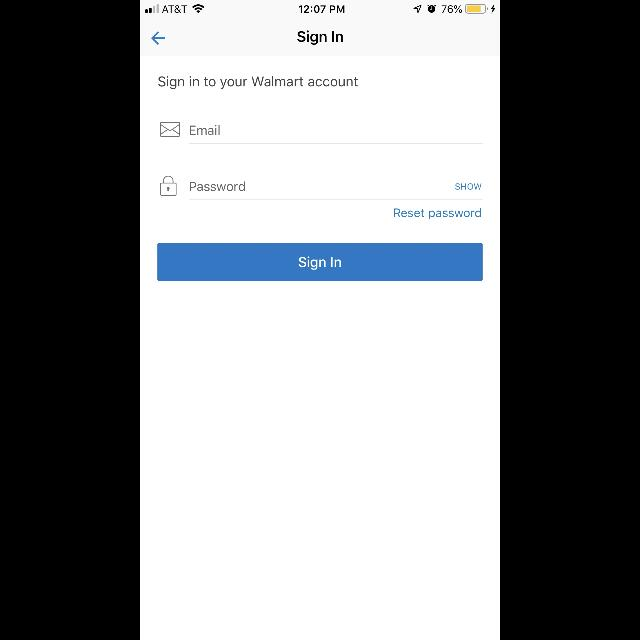icon: (160, 176, 178, 196), (160, 122, 180, 138), (151, 31, 165, 45)
input: (189, 126, 483, 144), (189, 182, 483, 200)
text: (158, 76, 358, 90), (394, 208, 482, 220), (297, 30, 343, 46), (190, 182, 246, 192), (190, 125, 220, 135), (455, 183, 481, 190)
textbutton: (158, 243, 482, 281)
uppertaskbar: (140, 0, 500, 14)
